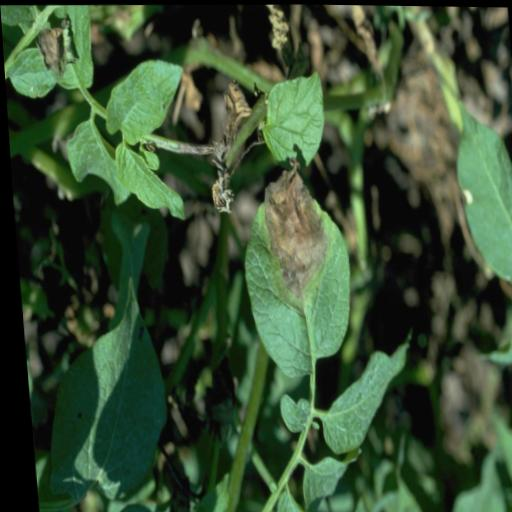Early Blight: (226, 165, 355, 378)
